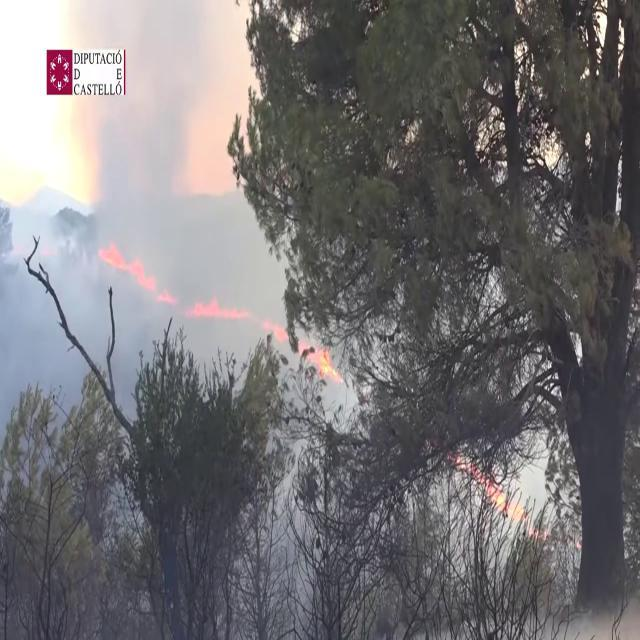Fire: (306, 338, 339, 382)
Smoke: (72, 0, 288, 404)
